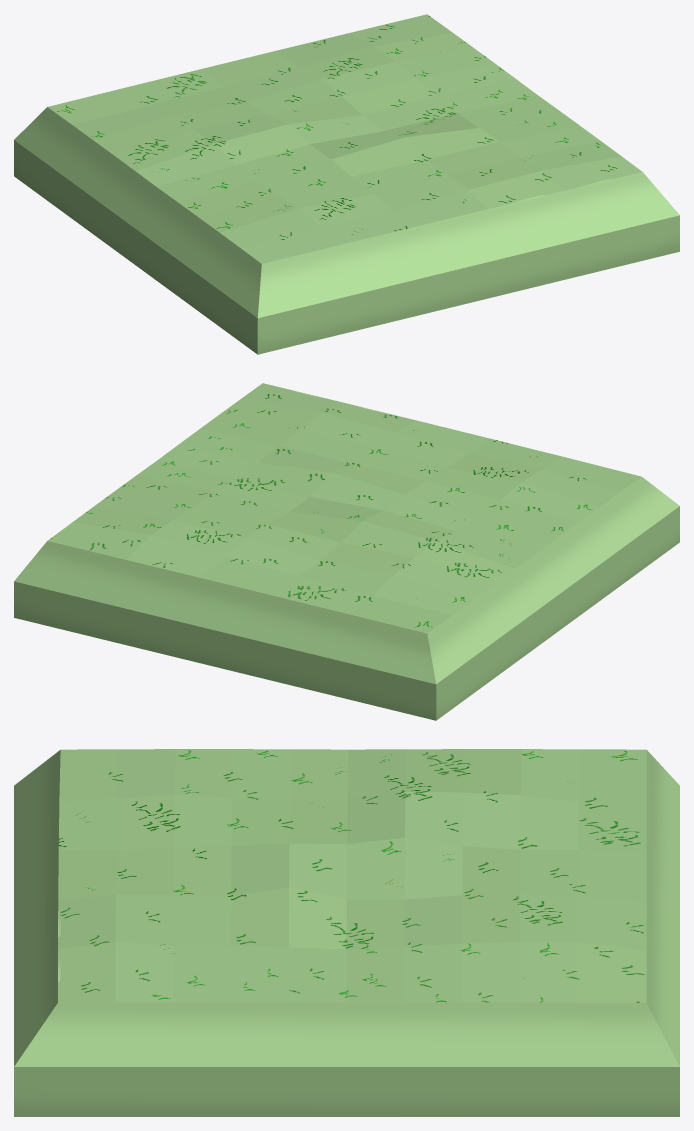
File: plane_sqrt.glb
3 views of the same model, one above another, from view 1: azimuth 30°, elevation 25°; view 2: azimuth 150°, elevation 25°; view 3: azimuth 270°, elevation 25° (orthographic). The views are drawn at different scales.
Parts seen in each view (by area): view 1: Cylinder; view 2: Cylinder; view 3: Cylinder.
Part boxes in pixels (x1,y1,x2,y2): Cylinder: (14,14,679,354); Cylinder: (14,383,679,720); Cylinder: (14,749,679,1116).
Size of the model in its own units: 1 by 0.1888 by 1.
1 material, 1 textured.
